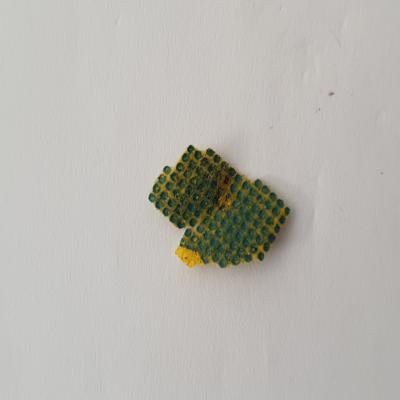plastic: (145, 138, 295, 276)
